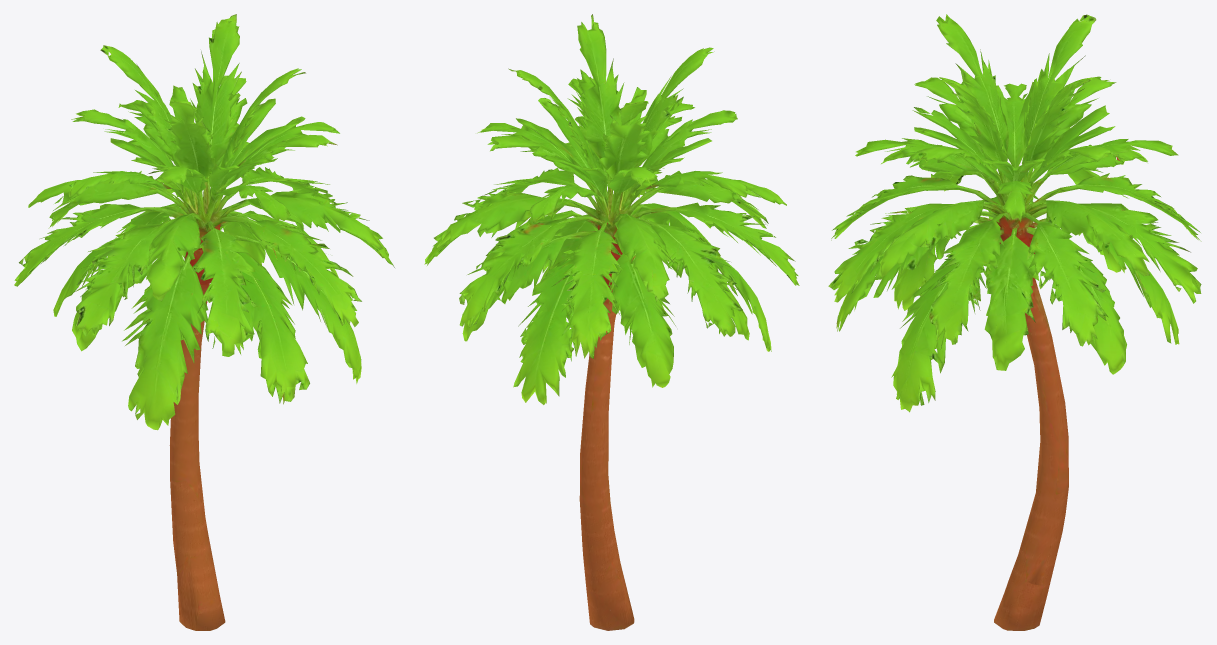
File: palm_u.glb
The picture shows the model from 3 angles, left to right: view 1: azimuth 30°, elevation 25°; view 2: azimuth 150°, elevation 25°; view 3: azimuth 270°, elevation 25°; orthographic projection. The views are drawn at different scales.
Bounding box in the file's own units: 1.11 × 1.9 × 1.12.
Materials: 1 (1 with a texture image).
